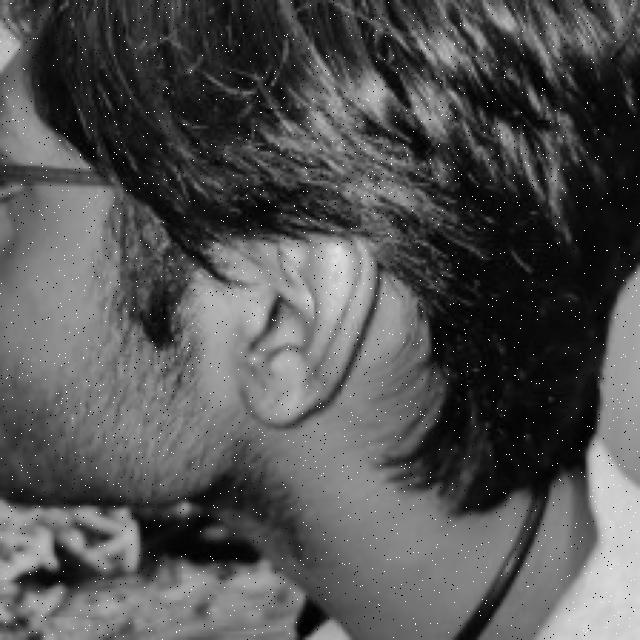ear: (240, 231, 377, 420)
